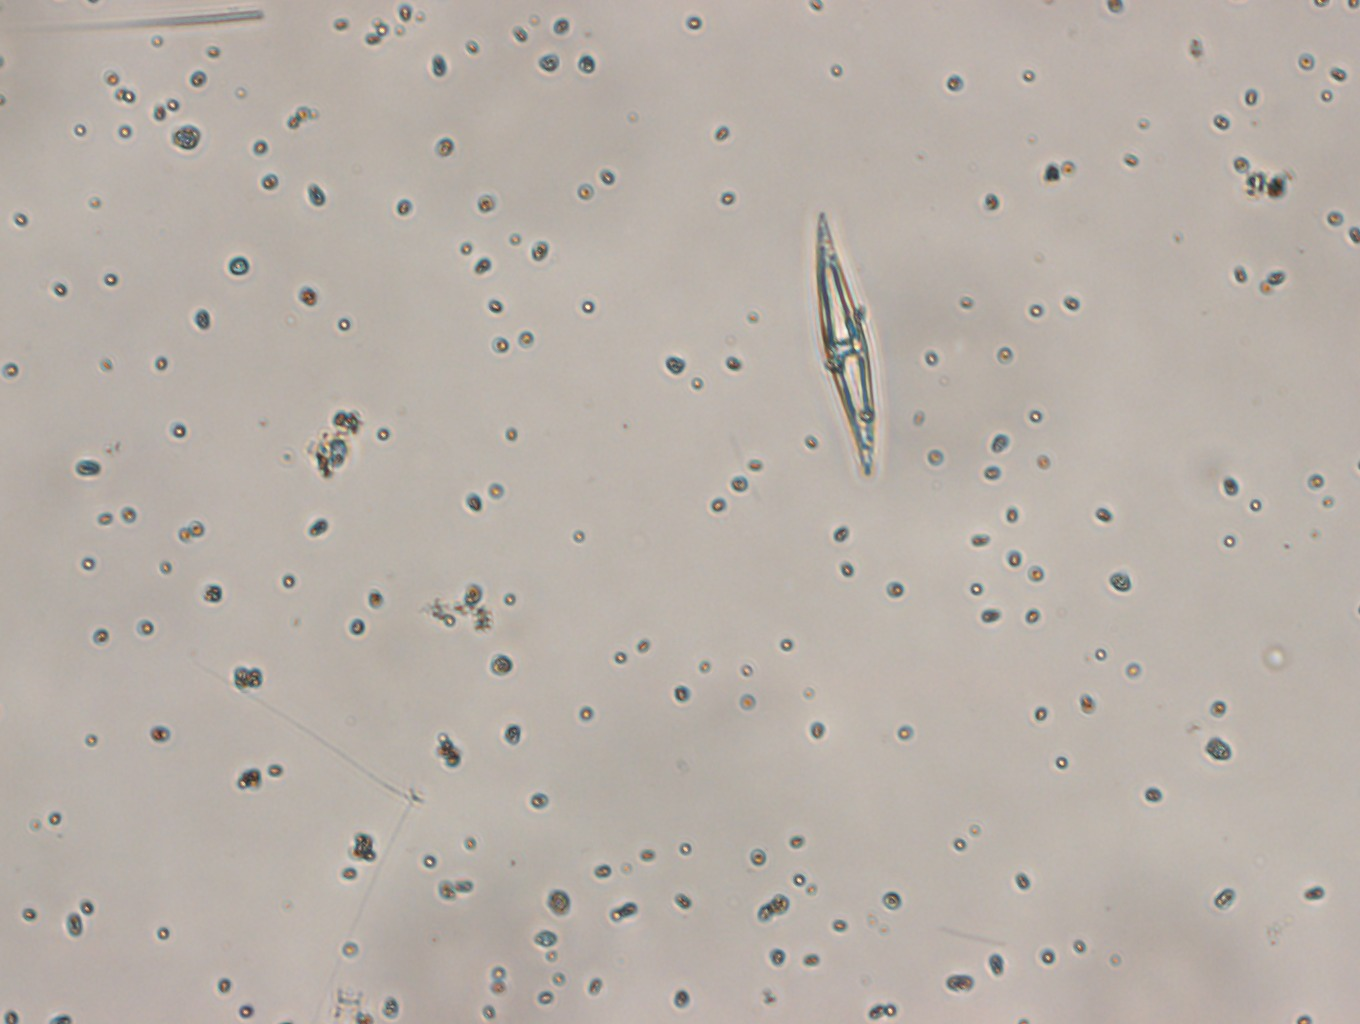pleurosigma pelagicum: (805, 201, 898, 482)
